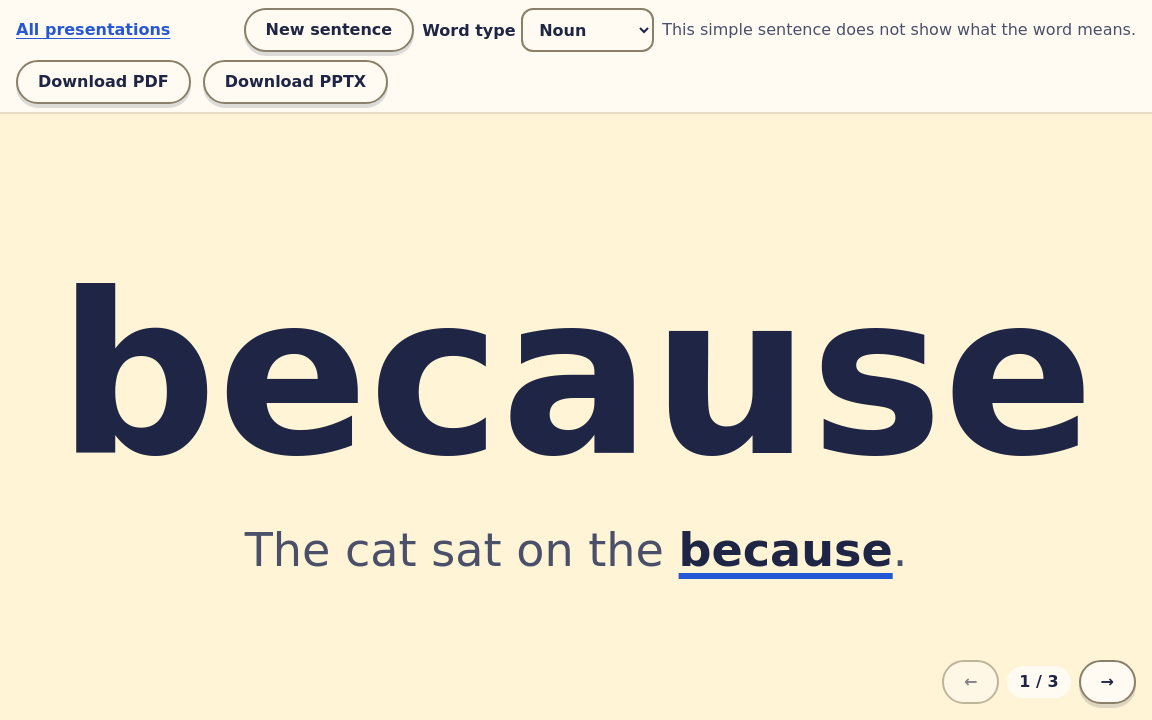
Test: PresentationPage › sentences › shows an error and keeps the sentence when the change cannot be saved
Click the button "New sentence" at (329, 30), box x1=244 y1=8 x2=414 y2=52
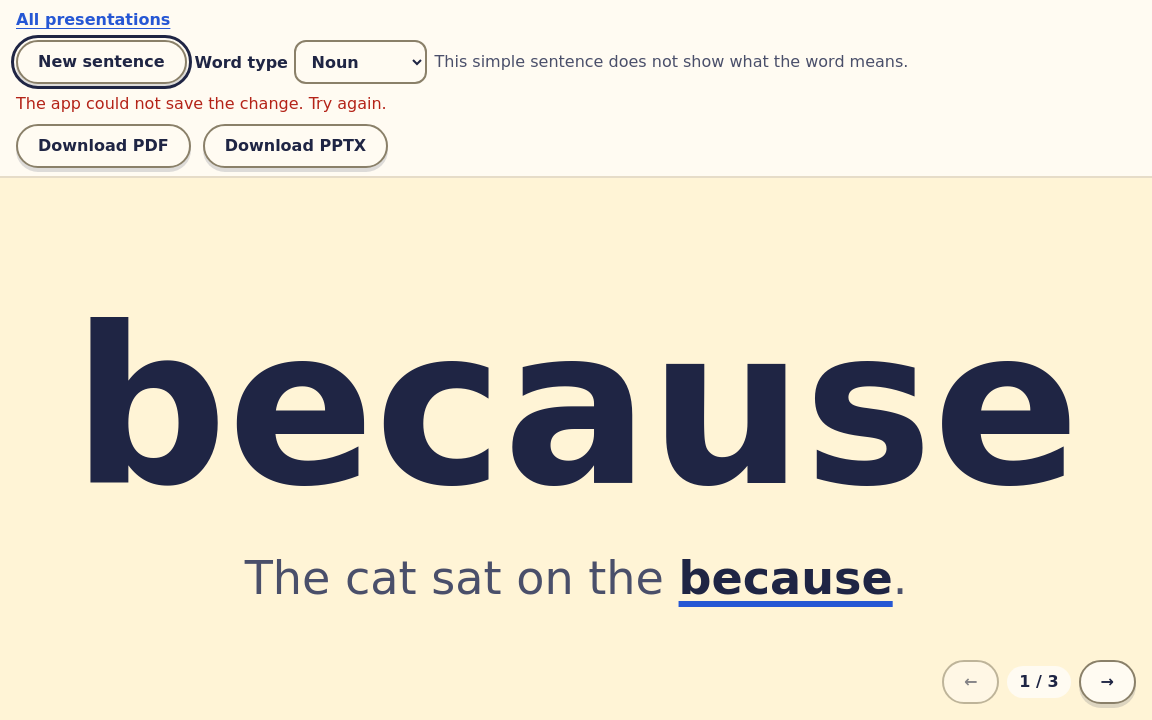
Expected: the message reads "The app could not save the change. Try again.", x1=16 y1=94 x2=387 y2=113
